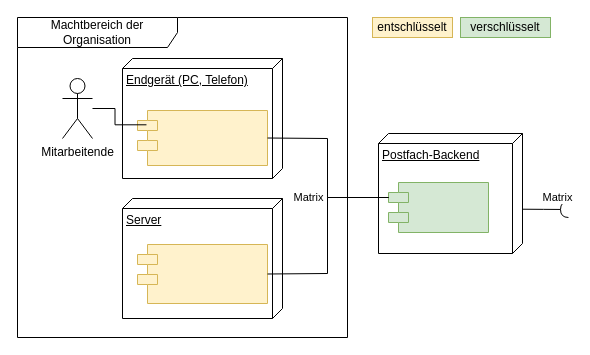
The diagram is 590 pixels wide and 355 high, and some of its shapes have lost their labels. Each missing label, with the centre of its shape:
"Bot / Postfach-Zugang (Matrix-Client)" goes at (202,274).
"Postfach (Matrix-Homeserver)" goes at (438,207).
"UI / Postfach-Zugang (Matrix-Client)" goes at (202,138).
